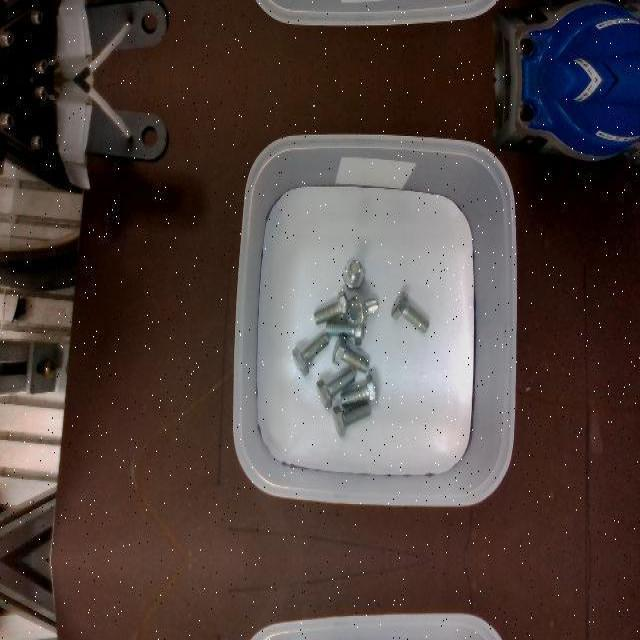screw: (390, 290, 429, 334), (293, 333, 330, 377), (316, 367, 354, 409), (331, 333, 369, 371), (333, 402, 371, 438), (313, 289, 348, 325), (339, 374, 377, 406), (346, 294, 378, 328), (342, 258, 364, 288)
